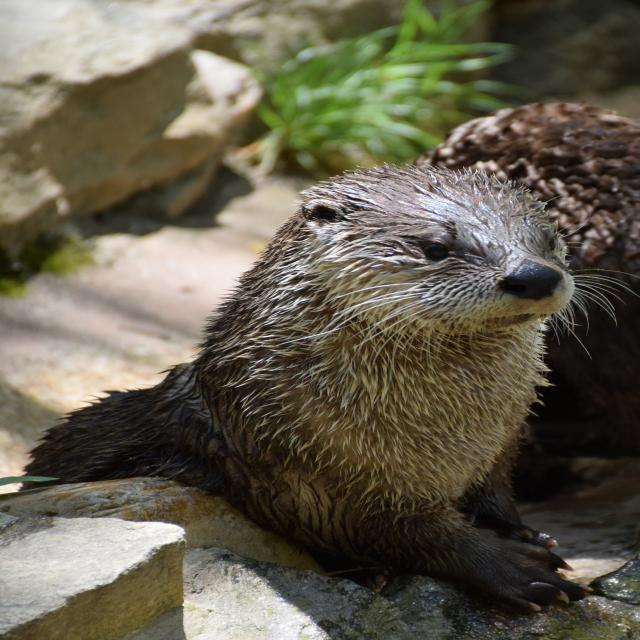otter: (196, 167, 579, 504)
